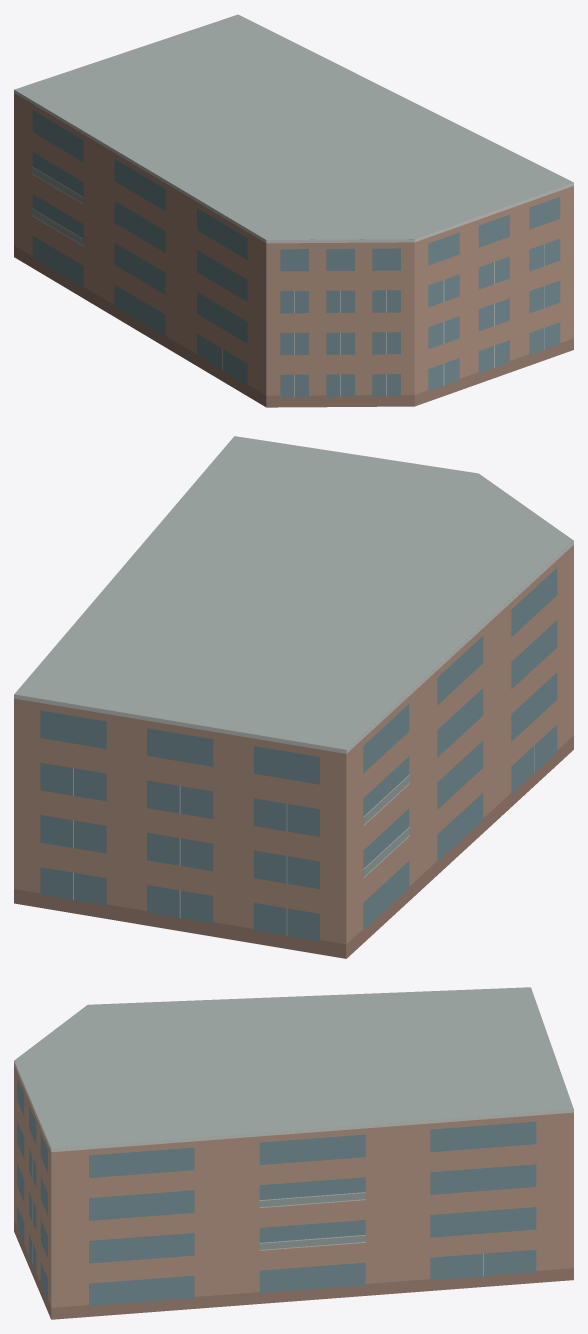
File: survey-upis-32524682.glb
3 views of the same model, one above another, from view 1: azimuth 30°, elevation 25°; view 2: azimuth 150°, elevation 25°; view 3: azimuth 270°, elevation 25° (orthographic). The views are drawn at different scales.
Visible parts, largest first — view 1: survey-upis-32524682.tmp; view 2: survey-upis-32524682.tmp; view 3: survey-upis-32524682.tmp.
Boxes of the visible parts, left/top/right/bottom form: survey-upis-32524682.tmp: left=14, top=14, right=573, bottom=407; survey-upis-32524682.tmp: left=14, top=436, right=573, bottom=958; survey-upis-32524682.tmp: left=14, top=987, right=573, bottom=1319.
Size of the model in its own units: 25.33 by 12.47 by 37.05.
